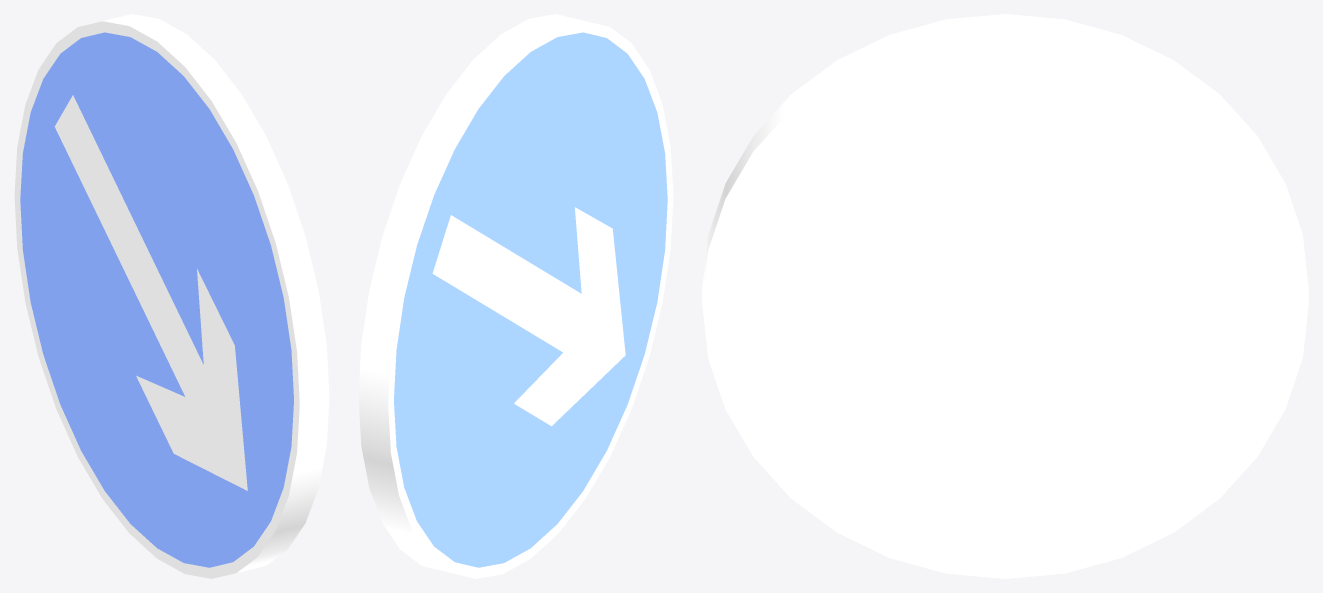
Rendered from RightSide_Of_The_Road_Driving.glb.
3 renders of one model, left to right at view 1: azimuth 30°, elevation 25°; view 2: azimuth 150°, elevation 25°; view 3: azimuth 270°, elevation 25°, orthographic. The views are drawn at different scales.
Parts seen in each view (by area): view 1: RightSide_Of_The_Road_Driving; view 2: RightSide_Of_The_Road_Driving; view 3: RightSide_Of_The_Road_Driving.
Part boxes in pixels (box(x1,y1,x2,y2)): RightSide_Of_The_Road_Driving: box(14, 14, 329, 578); RightSide_Of_The_Road_Driving: box(358, 14, 673, 578); RightSide_Of_The_Road_Driving: box(702, 14, 1308, 578).
Bounding box in the file's own units: 0.0643 × 1 × 1.
